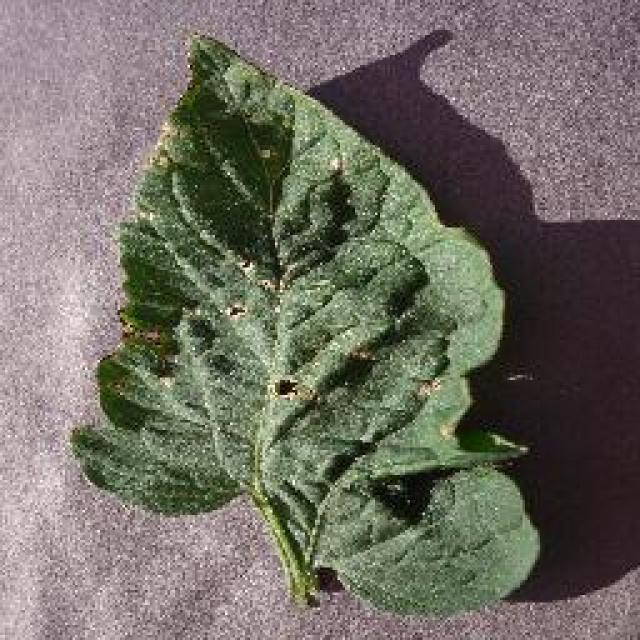Tomato Septoria spot leaf: (68, 22, 550, 620)
